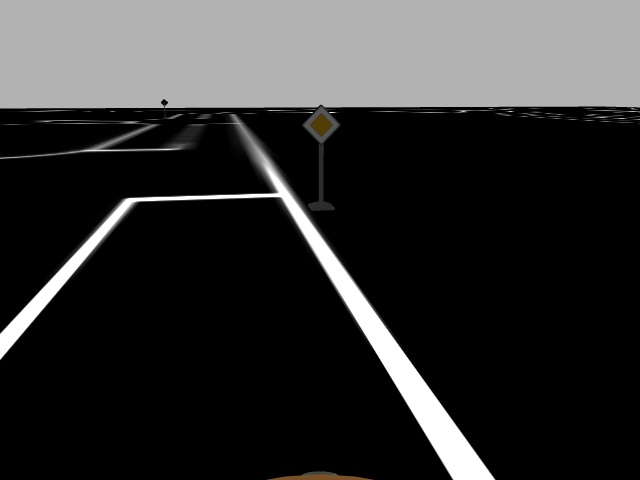priority: (301, 103, 341, 144)
